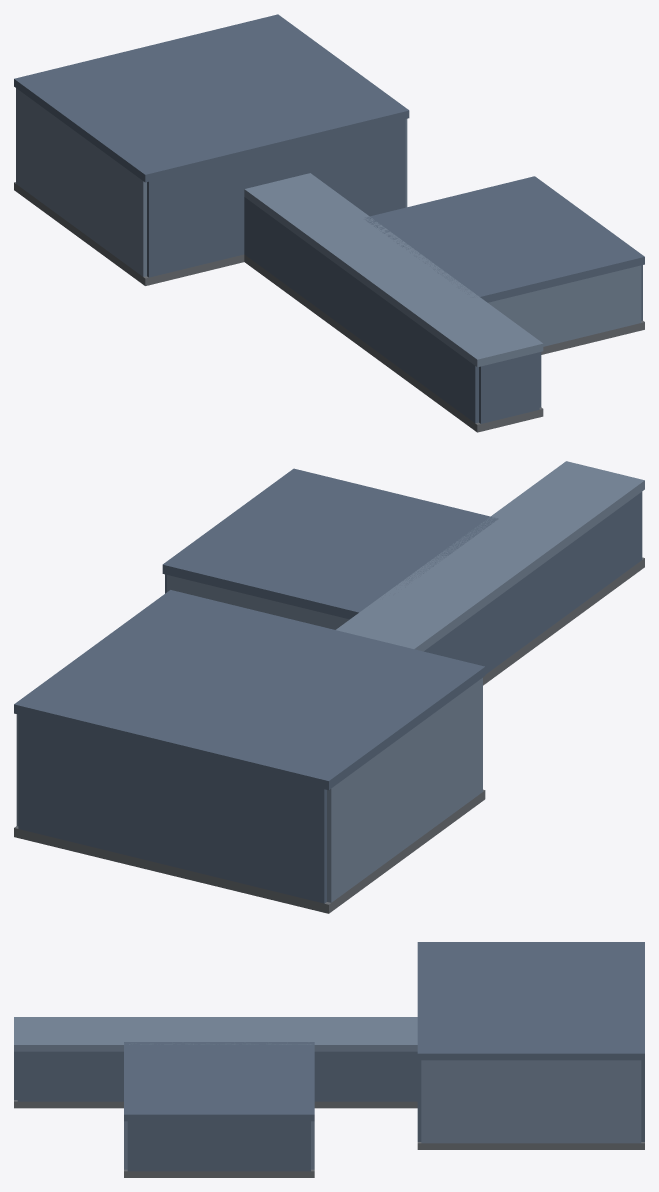
Rendered from inside_zone_high_1.glb.
3 views of the same model, one above another, from view 1: azimuth 30°, elevation 25°; view 2: azimuth 150°, elevation 25°; view 3: azimuth 270°, elevation 25° (orthographic). The views are drawn at different scales.
Parts seen in each view (by area): view 1: inside_zone_high_1; view 2: inside_zone_high_1; view 3: inside_zone_high_1.
Part boxes in pixels (x1,y1,x2,y2): inside_zone_high_1: (14,14,644,432); inside_zone_high_1: (14,461,644,913); inside_zone_high_1: (14,942,644,1177).
Size of the model in its own units: 18 by 5.8 by 34.4.
